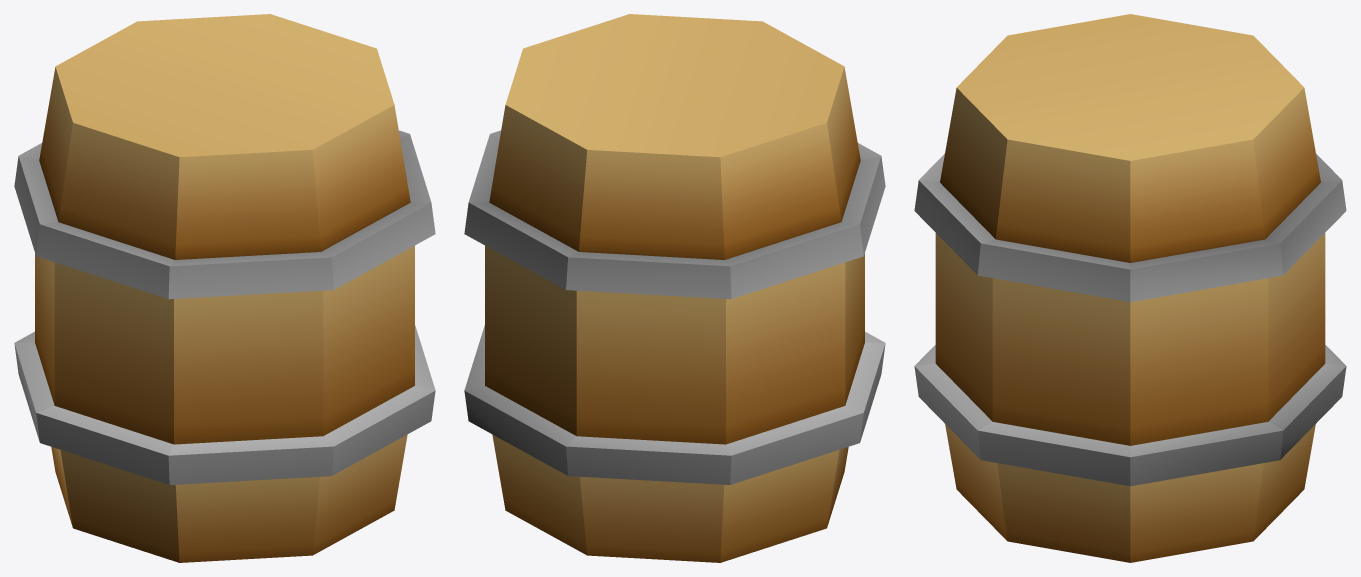
The model's file is barrel_02.fbx.
The picture shows the model from 3 angles, left to right: view 1: azimuth 30°, elevation 25°; view 2: azimuth 150°, elevation 25°; view 3: azimuth 270°, elevation 25°; orthographic projection.
Visible parts, largest first — view 1: barrel_02; view 2: barrel_02; view 3: barrel_02.
Part boxes in pixels (left/top/right/bottom): barrel_02: left=14, top=14, right=435, bottom=562; barrel_02: left=464, top=14, right=885, bottom=562; barrel_02: left=914, top=14, right=1346, bottom=562.
Size of the model in its own units: 72.39 by 74.3 by 72.39.
